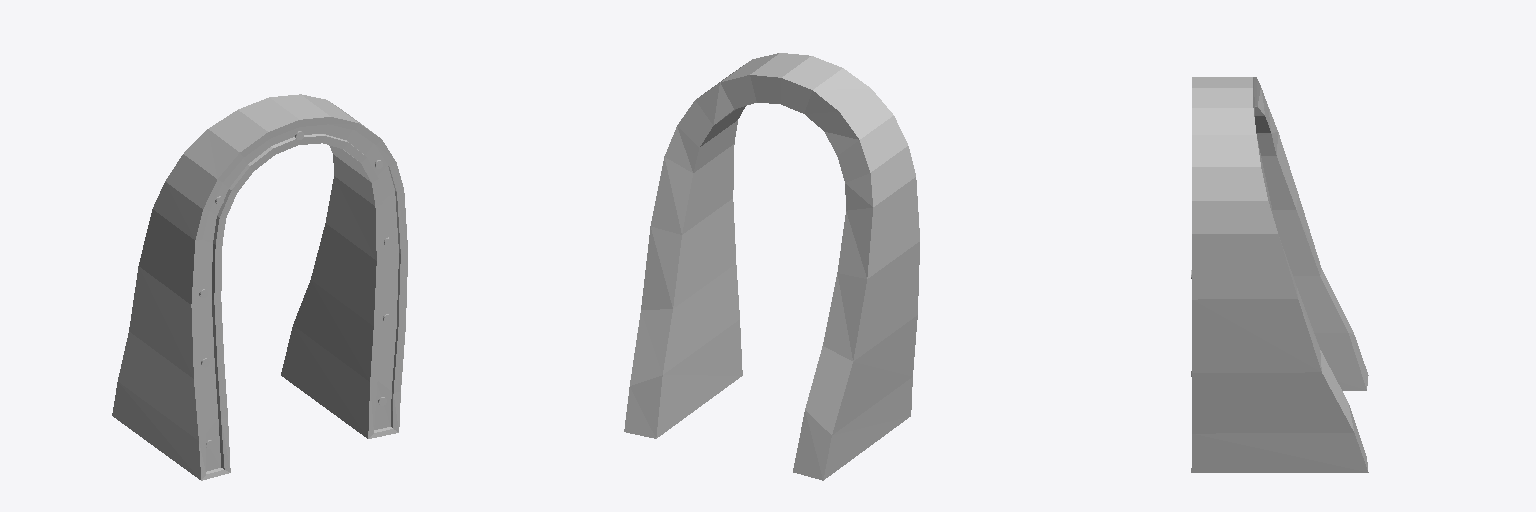
The model's file is puertaCuarto1.obj.
3 views of the same model, side by side, from view 1: azimuth 30°, elevation 25°; view 2: azimuth 150°, elevation 25°; view 3: azimuth 270°, elevation 25° (orthographic).
Visible parts, largest first — view 1: pasted__pasted__pSphere22polySurface163 group10; view 2: pasted__pasted__pSphere22polySurface163 group10; view 3: pasted__pasted__pSphere22polySurface163 group10.
Part boxes in pixels (x1,y1,x2,y2): pasted__pasted__pSphere22polySurface163 group10: (112,94,407,480); pasted__pasted__pSphere22polySurface163 group10: (624,53,919,480); pasted__pasted__pSphere22polySurface163 group10: (1191,77,1368,472).
Size of the model in its own units: 2.45 by 3.63 by 1.73.